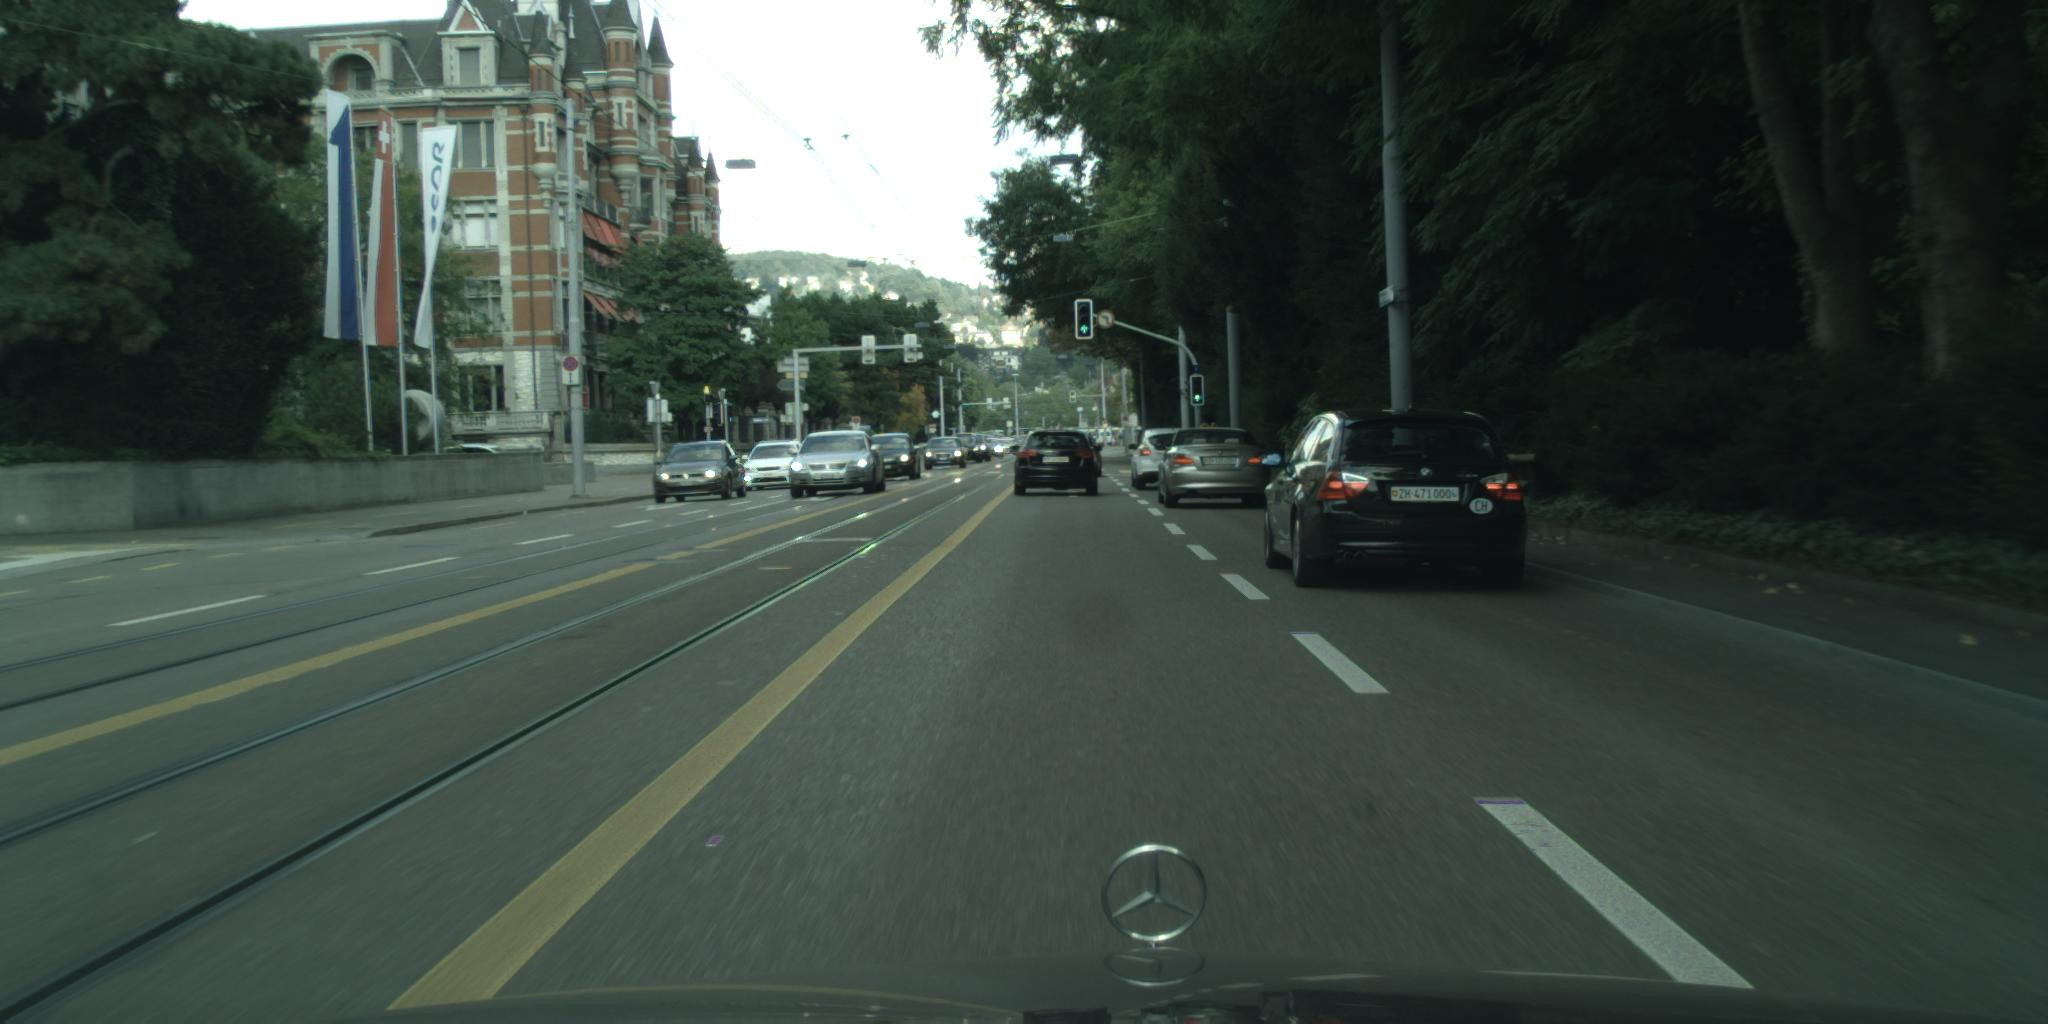car: (1262, 409, 1529, 590), (1156, 424, 1272, 509), (790, 430, 888, 500), (1010, 430, 1100, 498), (654, 441, 747, 505), (1128, 428, 1194, 491), (741, 440, 812, 492), (870, 434, 923, 481), (1059, 431, 1104, 478), (925, 438, 968, 472), (953, 434, 984, 464), (460, 444, 511, 458), (970, 435, 993, 462)
